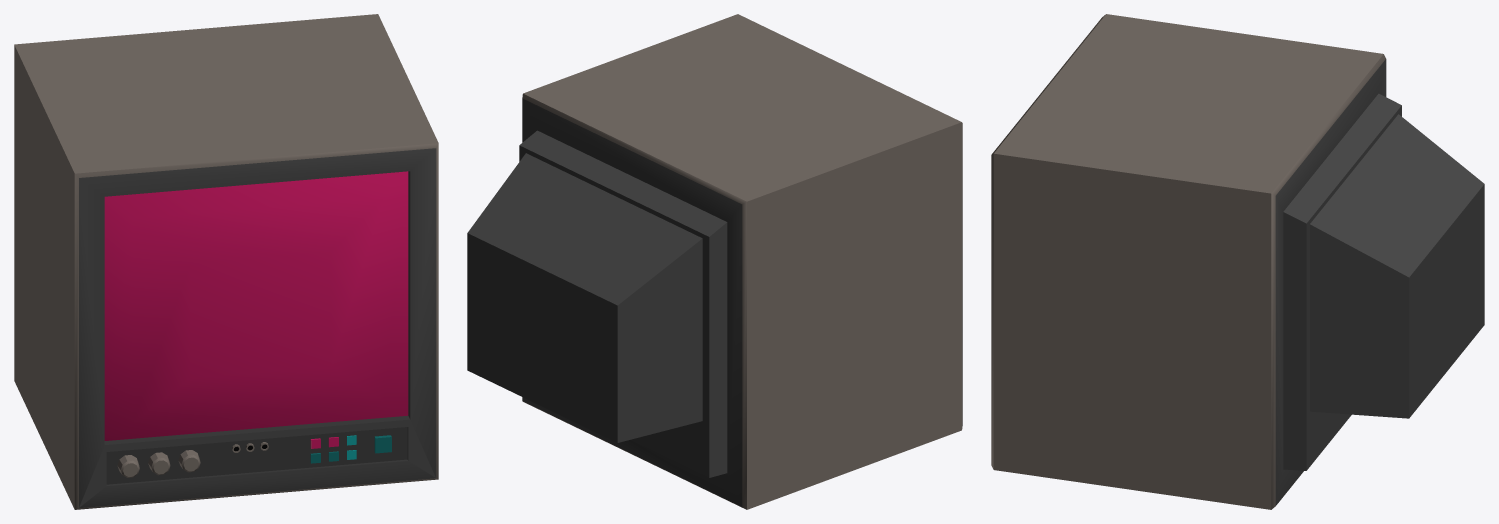
Rendered from Monitor1.fbx.
The picture shows the model from 3 angles, left to right: view 1: azimuth 30°, elevation 25°; view 2: azimuth 150°, elevation 25°; view 3: azimuth 270°, elevation 25°; orthographic projection. The views are drawn at different scales.
Parts seen in each view (by area): view 1: Monitor1; view 2: Monitor1; view 3: Monitor1.
Part boxes in pixels (x1,y1,x2,y2): Monitor1: (14,14,438,509); Monitor1: (467,14,962,509); Monitor1: (991,14,1484,509).
Bounding box in the file's own units: 3.91 × 3.21 × 4.53.
Materials: 1 (1 with a texture image).
